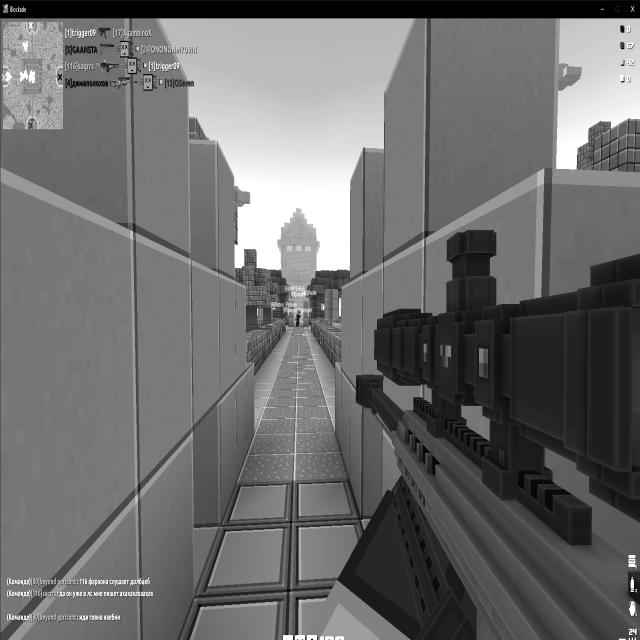Head: (297, 310, 300, 315)
Player: (295, 310, 300, 326)
